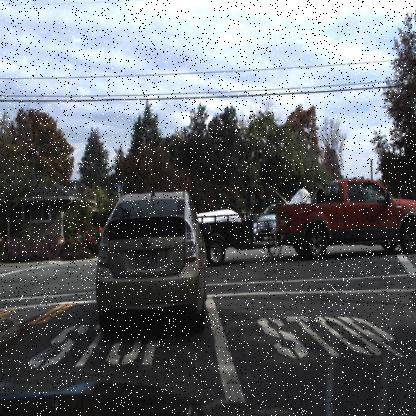car: (206, 178, 416, 262), (94, 186, 207, 338), (259, 202, 280, 238)
